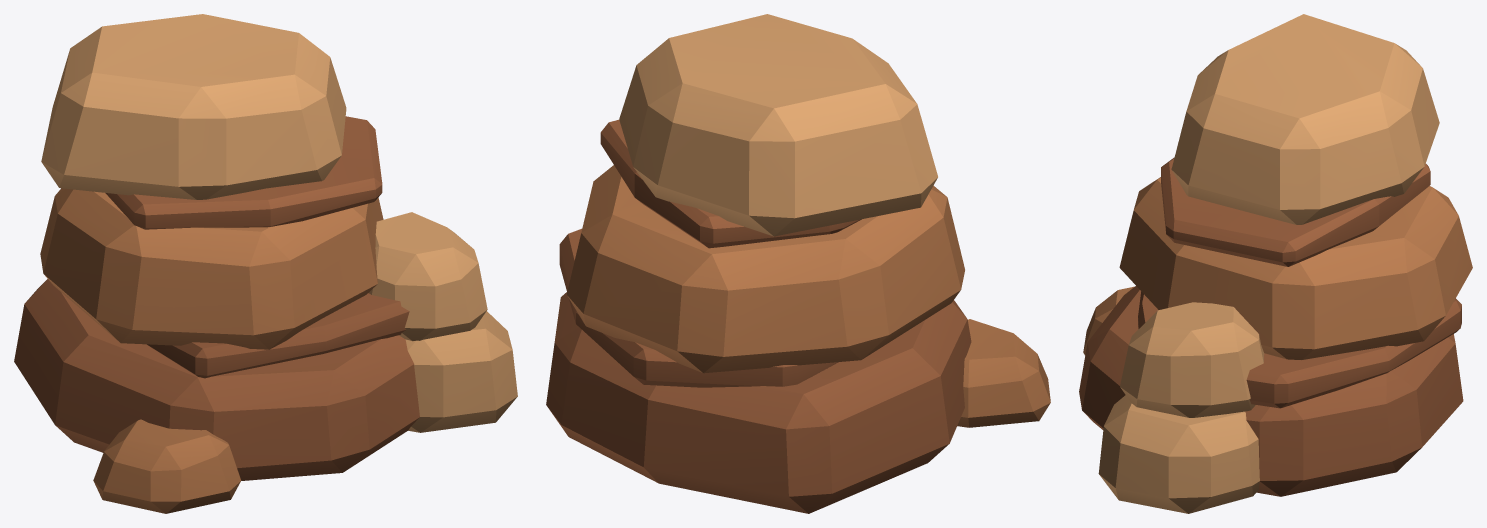
Rendered from desert_rock.glb.
The picture shows the model from 3 angles, left to right: view 1: azimuth 30°, elevation 25°; view 2: azimuth 150°, elevation 25°; view 3: azimuth 270°, elevation 25°; orthographic projection. The views are drawn at different scales.
Parts seen in each view (by area): view 1: D_Rock__D_rockl, D_Rock__D_rockd, D_Rock__D_rock; view 2: D_Rock__D_rockd, D_Rock__D_rock, D_Rock__D_rockl; view 3: D_Rock__D_rockl, D_Rock__D_rockd, D_Rock__D_rock.
Part boxes in pixels (box(x1,y1,x2,y2)): D_Rock__D_rockl: box(41, 14, 517, 432); D_Rock__D_rockd: box(14, 116, 419, 480); D_Rock__D_rock: box(40, 188, 383, 513); D_Rock__D_rockd: box(546, 119, 971, 513); D_Rock__D_rock: box(566, 165, 1050, 427); D_Rock__D_rockl: box(619, 14, 937, 236); D_Rock__D_rockl: box(1098, 14, 1439, 513); D_Rock__D_rockd: box(1079, 157, 1463, 496); D_Rock__D_rock: box(1083, 177, 1472, 359).
Size of the model in its own units: 1.75 by 1.41 by 1.47.
